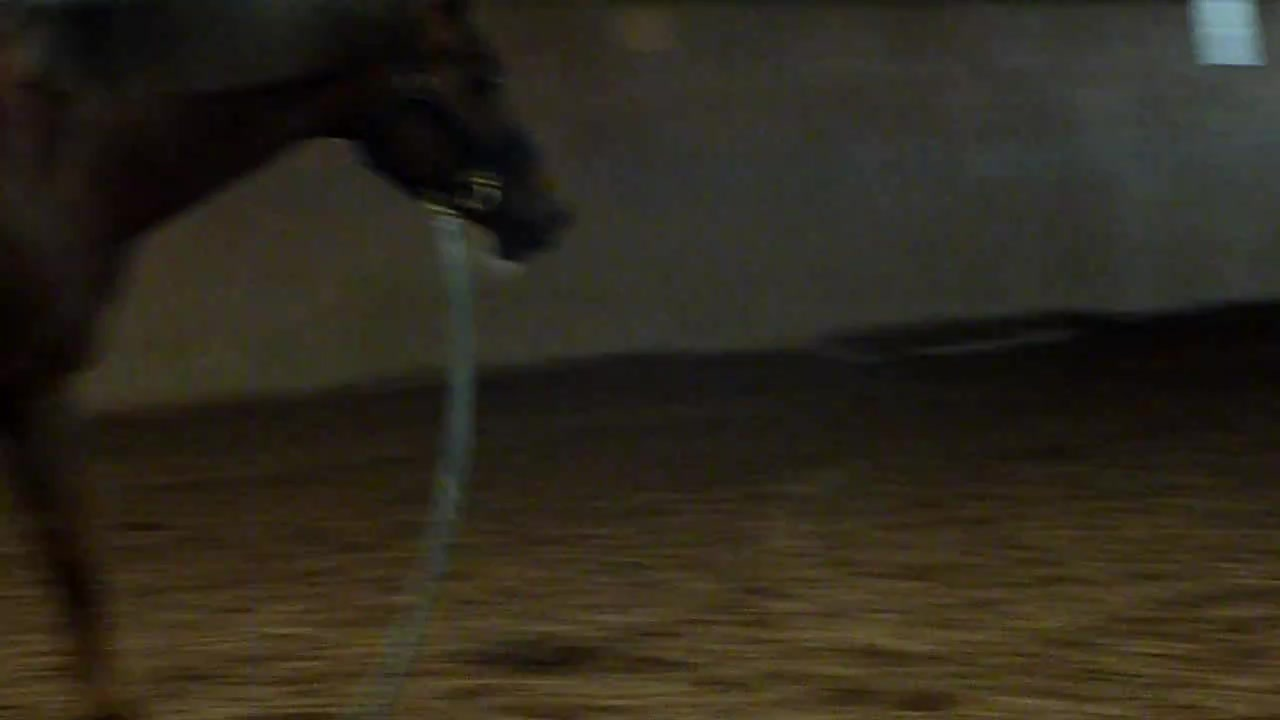horse: (1, 3, 580, 720)
